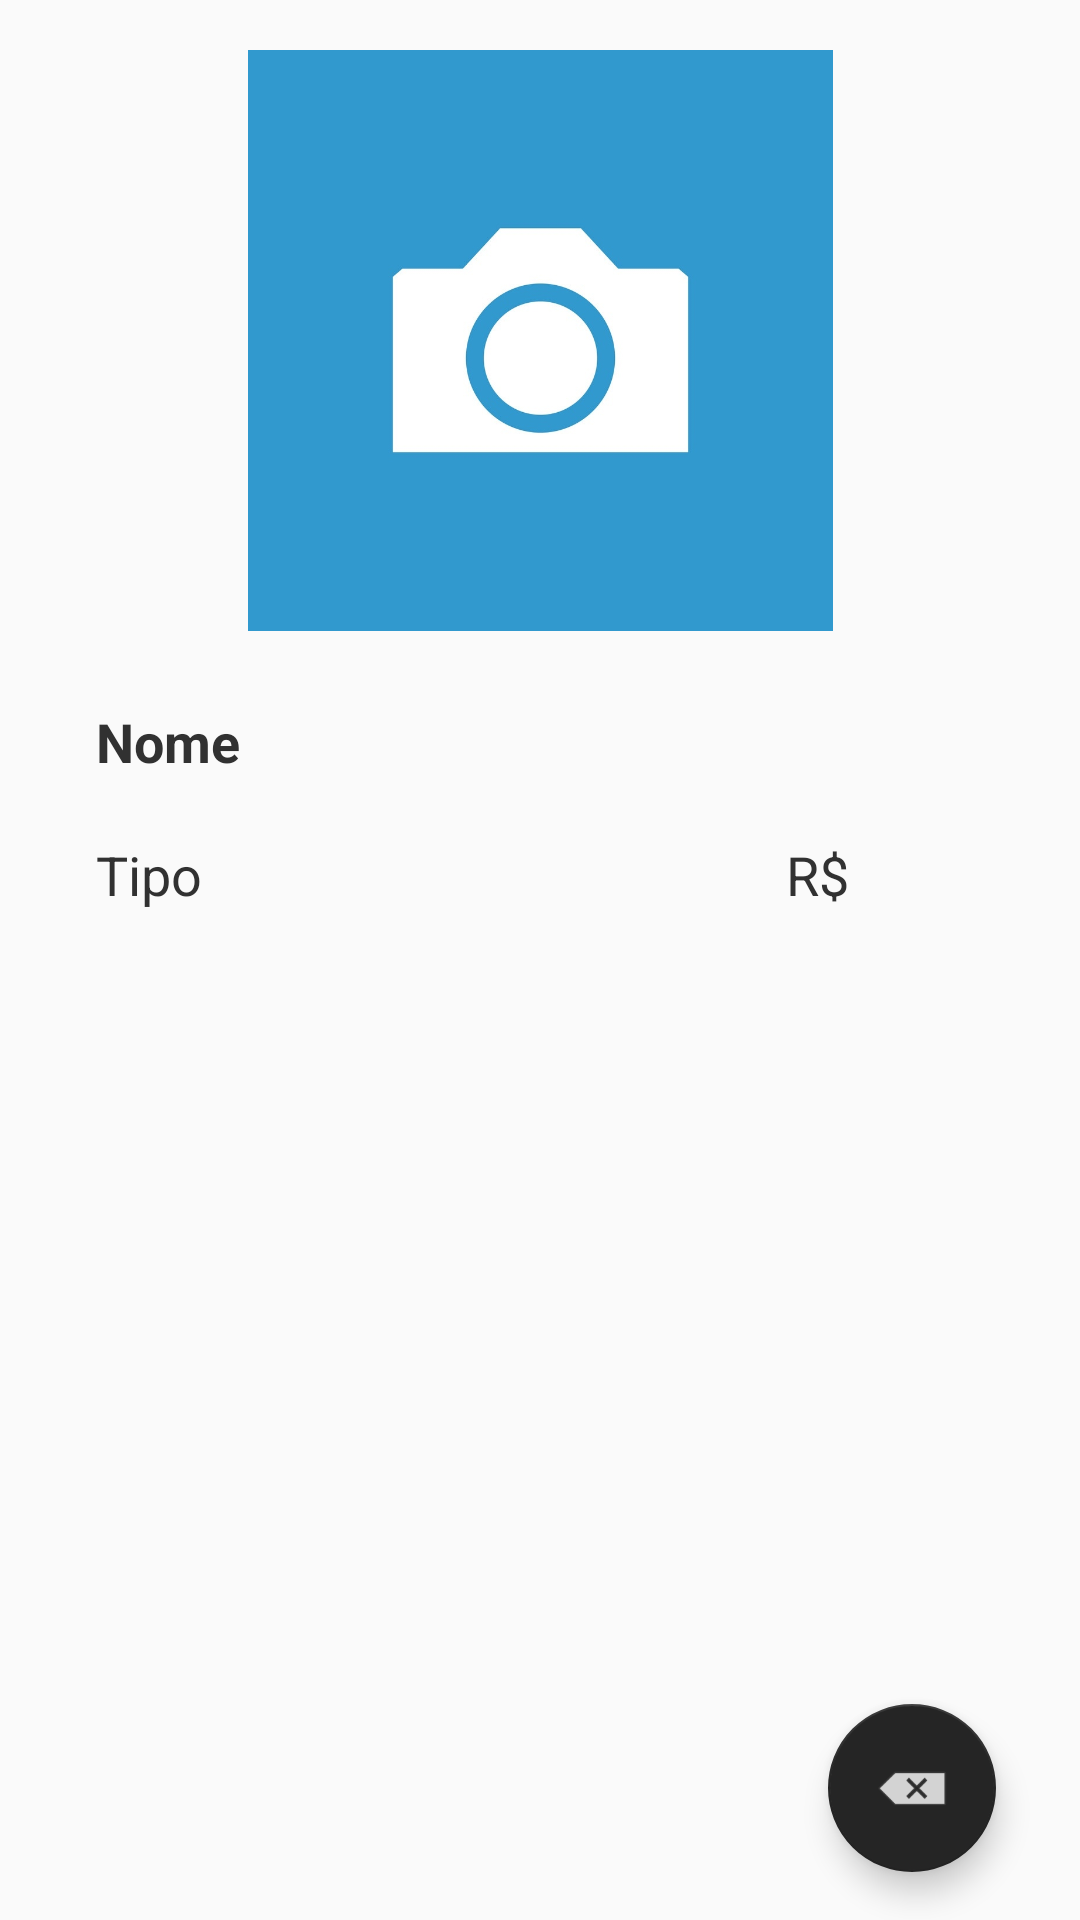

Icon bounding boxes for this 1080×1920 phone screenshot, format (x1, y1, x2, y2):
delete: (828, 1704, 996, 1872)
